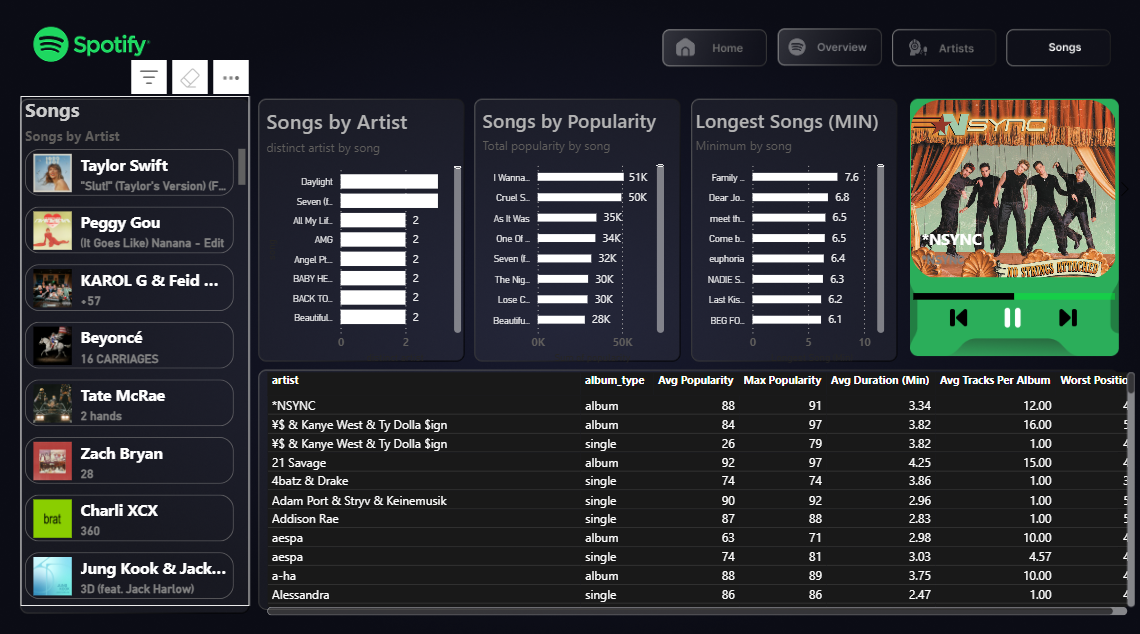

What the dashboard file says about the page in this screenshot:
{"tool":"powerbi","page":{"name":"Songs","canvas":[1280,720],"ordinal":2},"visuals":[{"type":"actionButton","box":[743.3,32.5,115.5,40.7],"z":0},{"type":"actionButton","box":[870.2,34.2,122,40.7],"z":1000},{"type":"actionButton","box":[992.2,34.2,122,40.7],"z":2000},{"type":"actionButton","box":[1127.2,32.5,122,40.7],"z":3000},{"type":"advancedSlicerVisual","fields":{"Values":["TOP-50-WORLD.artist"]},"box":[995.4,109,279.8,209.8],"z":4000},{"type":"hundredPercentStackedBarChart","fields":{"Y":["Measure.Avg Popularity","Avg(TOP-50-WORLD.popularity)"]},"box":[1018.2,294.4,234.2,68.3],"z":5000},{"type":"image","box":[1172.7,340.3,44,32],"z":6000},{"type":"image","box":[1052.1,340.3,44,32],"z":7000},{"type":"image","box":[1112.4,340.3,44,32],"z":8000},{"type":"shape","box":[1006.7,110,246.7,208.3],"z":9000},{"type":"barChart","title":"Songs by Artist","fields":{"Y":["Measure.distinct artist"],"Category":["TOP-50-WORLD.song"]},"box":[299.3,122,226.1,289.5],"z":10000},{"type":"barChart","title":"Songs by Popularity","fields":{"Category":["TOP-50-WORLD.song"],"Y":["Sum(TOP-50-WORLD.popularity)"]},"box":[540,122,211.5,289.5],"z":11000},{"type":"advancedSlicerVisual","title":"Songs ","fields":{"Values":["TOP-50-WORLD.song"]},"box":[30.9,110.6,255.4,566],"z":12000},{"type":"barChart","title":"Longest Songs (MIN)","fields":{"Category":["TOP-50-WORLD.song"],"Y":["Measure.Longest Song (Min)"]},"box":[775.9,122,219.6,289.5],"z":13000},{"type":"tableEx","fields":{"Values":["TOP-50-WORLD.artist","TOP-50-WORLD.album_type","Measure.Avg Popularity","Measure.Max Popularity","Measure.Avg Duration (Min)","Measure.Avg Tracks Per Album","Measure.Worst Position"]},"box":[300,411.7,975,280],"z":13001}]}

Visuals, with their boxes on the page's 1280x720 design canvas (x1, y1, x2, y2). These are canvas units, not pixel positions in the 1140x634 screenshot, which may show the page scaled, cropped or inside an application window:
actionButton: l=743, t=32, r=859, b=73
actionButton: l=870, t=34, r=992, b=75
actionButton: l=992, t=34, r=1114, b=75
actionButton: l=1127, t=32, r=1249, b=73
advancedSlicerVisual - TOP-50-WORLD.artist: l=995, t=109, r=1275, b=319
hundredPercentStackedBarChart - Measure.Avg Popularity x Avg(TOP-50-WORLD.popularity): l=1018, t=294, r=1252, b=363
image: l=1173, t=340, r=1217, b=372
image: l=1052, t=340, r=1096, b=372
image: l=1112, t=340, r=1156, b=372
shape: l=1007, t=110, r=1253, b=318
"Songs by Artist" barChart: l=299, t=122, r=525, b=412
"Songs by Popularity" barChart: l=540, t=122, r=752, b=412
"Songs " advancedSlicerVisual: l=31, t=111, r=286, b=677
"Longest Songs (MIN)" barChart: l=776, t=122, r=996, b=412
tableEx - TOP-50-WORLD.artist x TOP-50-WORLD.album_type: l=300, t=412, r=1275, b=692
